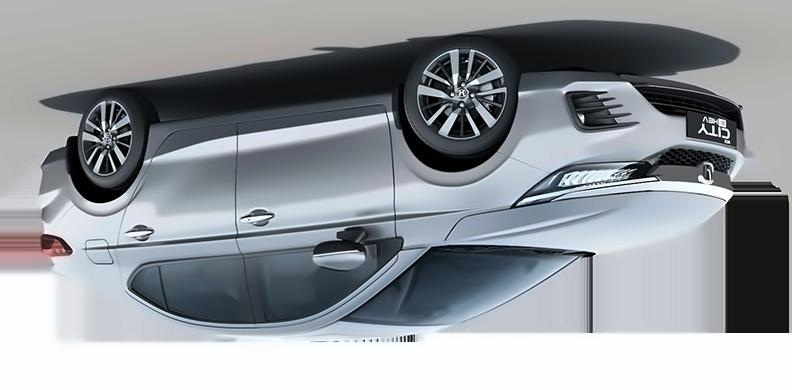Car hood: (441, 191, 727, 248)
Fender - -F-L-: (385, 96, 548, 250)
Fender - -R-L-: (42, 133, 158, 297)
Front bumper: (495, 65, 744, 176)
Headlight - -L-: (509, 160, 663, 208)
Passenger-s door - -F-L-: (233, 89, 423, 349)
Passenger-s door - -R-L-: (112, 83, 255, 340)
Rear light - -L-: (41, 233, 74, 261)
Side bumper - -L-: (142, 81, 391, 164)
Side mirror - -L-: (312, 221, 373, 273)
